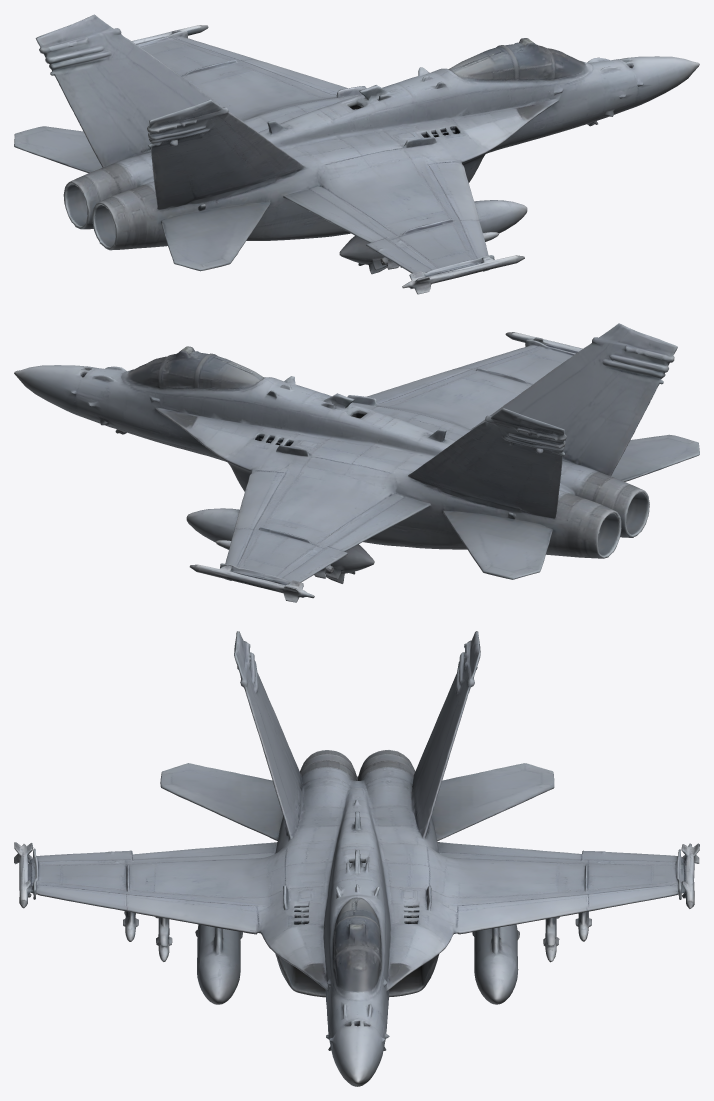
File: jet.glb
3 views of the same model, one above another, from view 1: azimuth 30°, elevation 25°; view 2: azimuth 150°, elevation 25°; view 3: azimuth 270°, elevation 25° (orthographic). The views are drawn at different scales.
Parts seen in each view (by area): view 1: tripo_node_3ea6755d-1c93-440f-8363-a30910bfaba6; view 2: tripo_node_3ea6755d-1c93-440f-8363-a30910bfaba6; view 3: tripo_node_3ea6755d-1c93-440f-8363-a30910bfaba6.
Part boxes in pixels (x1=…): tripo_node_3ea6755d-1c93-440f-8363-a30910bfaba6: x1=14, y1=14, x2=699, y2=294; tripo_node_3ea6755d-1c93-440f-8363-a30910bfaba6: x1=14, y1=323, x2=699, y2=602; tripo_node_3ea6755d-1c93-440f-8363-a30910bfaba6: x1=14, y1=631, x2=699, y2=1086.
Size of the model in its own units: 1 by 0.3166 by 0.9237.
Materials: 1 (1 with a texture image).
